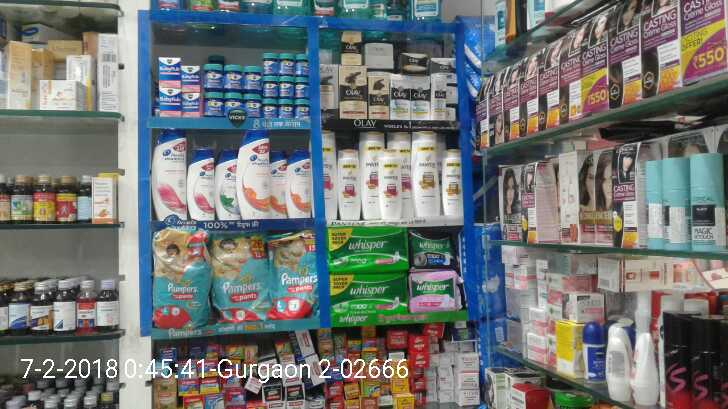vicks: (153, 47, 314, 119)
